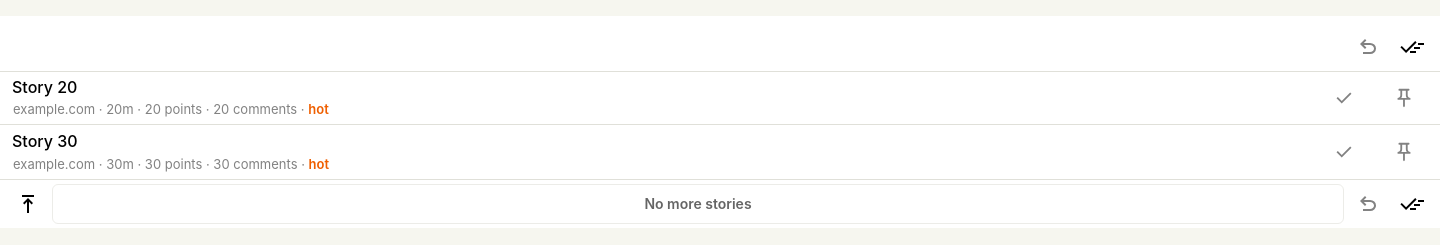
Scenario: <StoryList> pinned-to-top block › unpinning a row pinned in-session drops the in-body marker, so re-pinning also stays in place
Click the 4th button with test id "pin-btn": x=1404, y=98 [1380,71,1428,124]
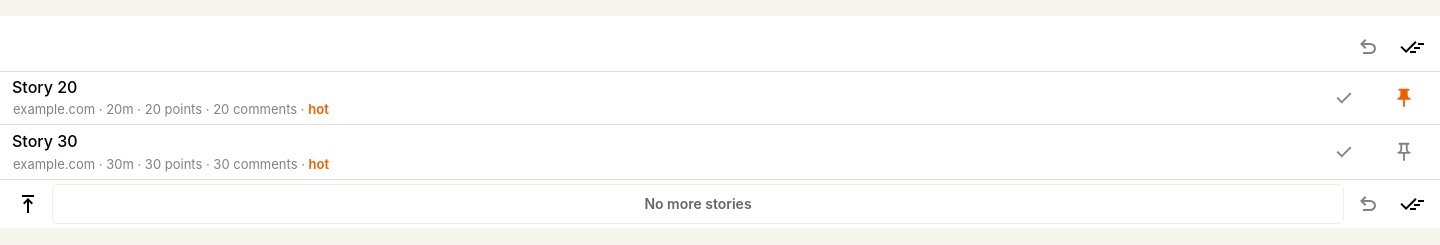
Expected: the button with test id "pin-btn" is pressed
Click the 4th button with test id "pin-btn": x=1404, y=98 [1380,71,1428,124]
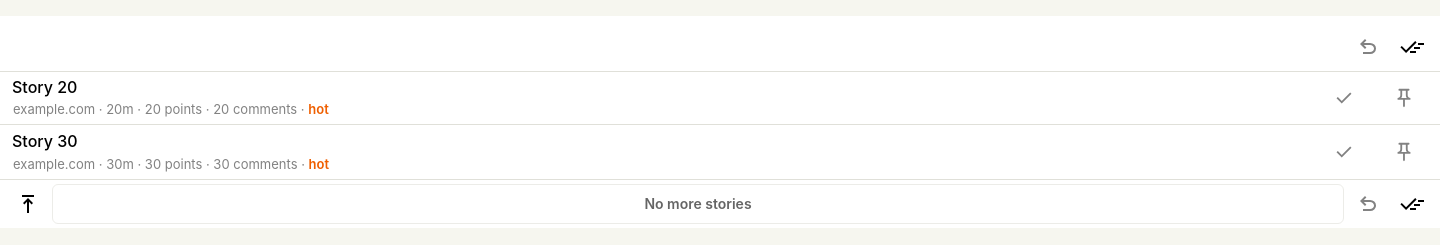
Expected: the button with test id "pin-btn" is not pressed
Click the 4th button with test id "pin-btn": x=1404, y=98 [1380,71,1428,124]
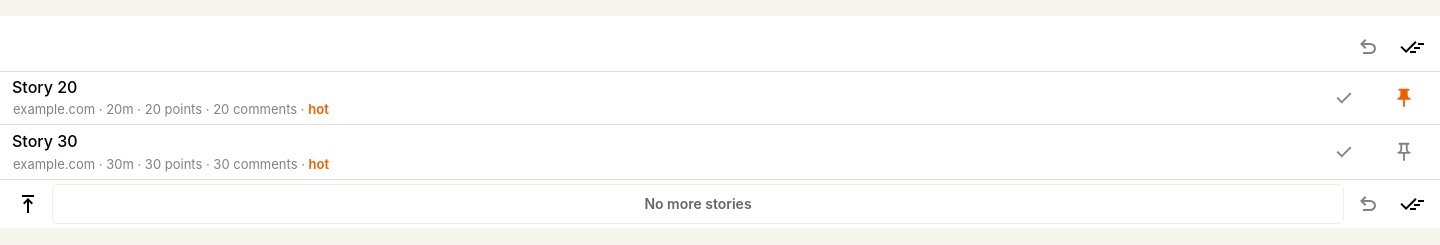
Expected: the button with test id "pin-btn" is pressed, [1380,71,1428,124]
